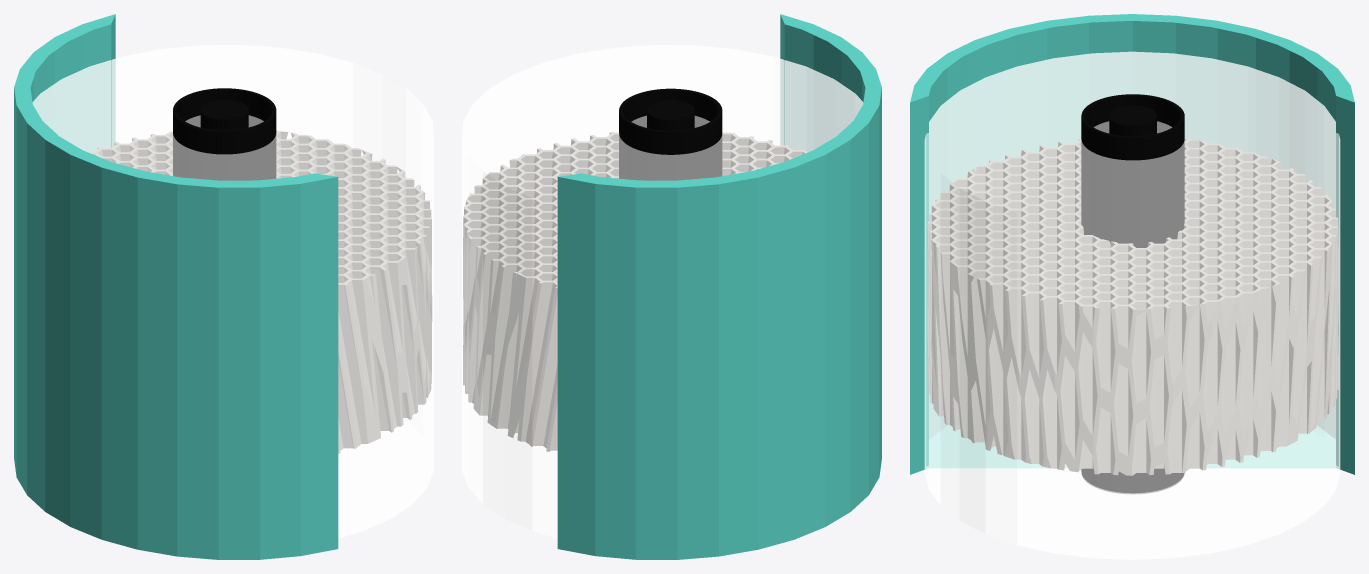
The model's file is Clarifier.glb.
3 views of the same model, side by side, from view 1: azimuth 30°, elevation 25°; view 2: azimuth 150°, elevation 25°; view 3: azimuth 270°, elevation 25° (orthographic).
Visible parts, largest first — view 1: Circle, Circle.002, HoneyComb.002, Circle.003; view 2: Circle, Circle.002, HoneyComb.002, Circle.003; view 3: Circle.002, HoneyComb.002, Circle, Circle.003.
Boxes of the visible parts, bbox=[...] form: Circle: bbox=[14, 14, 338, 559]; Circle.002: bbox=[32, 45, 433, 538]; HoneyComb.002: bbox=[89, 130, 432, 453]; Circle.003: bbox=[173, 88, 276, 180]; Circle: bbox=[557, 14, 881, 559]; Circle.002: bbox=[462, 45, 863, 538]; HoneyComb.002: bbox=[463, 132, 807, 451]; Circle.003: bbox=[619, 88, 722, 180]; Circle.002: bbox=[924, 51, 1340, 559]; HoneyComb.002: bbox=[927, 139, 1338, 475]; Circle: bbox=[910, 14, 1354, 474]; Circle.003: bbox=[1081, 94, 1184, 493].
Bounding box in the file's own units: 4.38 × 4.32 × 4.67.
